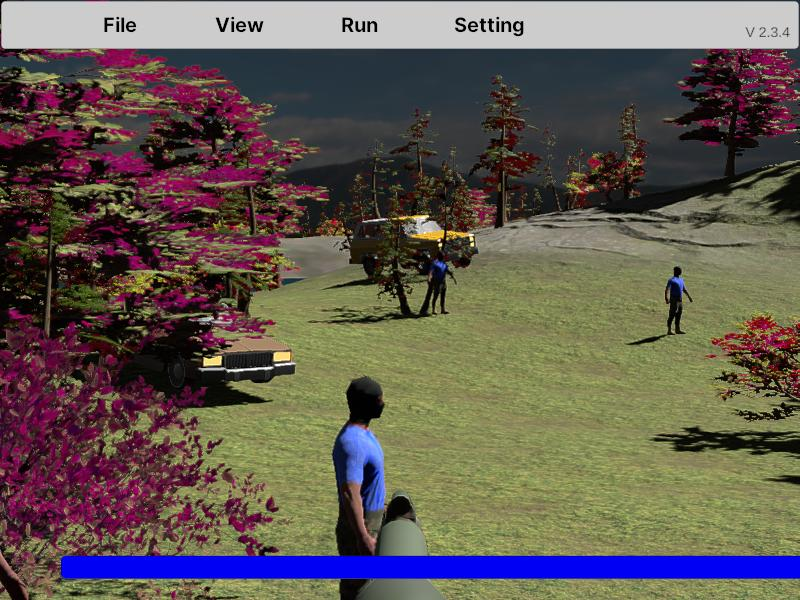Human: (332, 374, 387, 600), (665, 265, 693, 335), (428, 250, 456, 315)
car: (349, 215, 478, 279)
